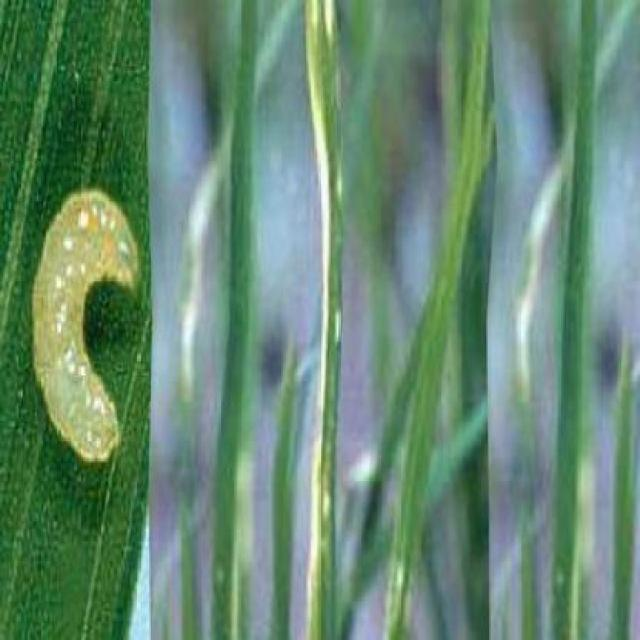whorl-maggot: (22, 175, 146, 474)
